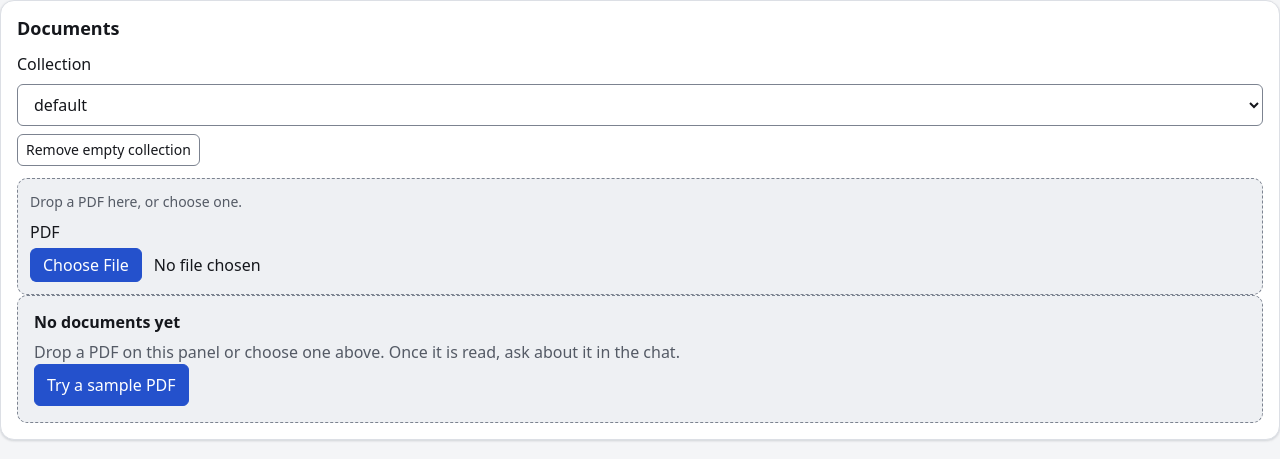
Test: DocumentsPanel › sample PDF › uploads the sample into the selected collection from the empty state
Click the button "Try a sample PDF" at {"x": 111, "y": 384}, box [34,364,189,406]
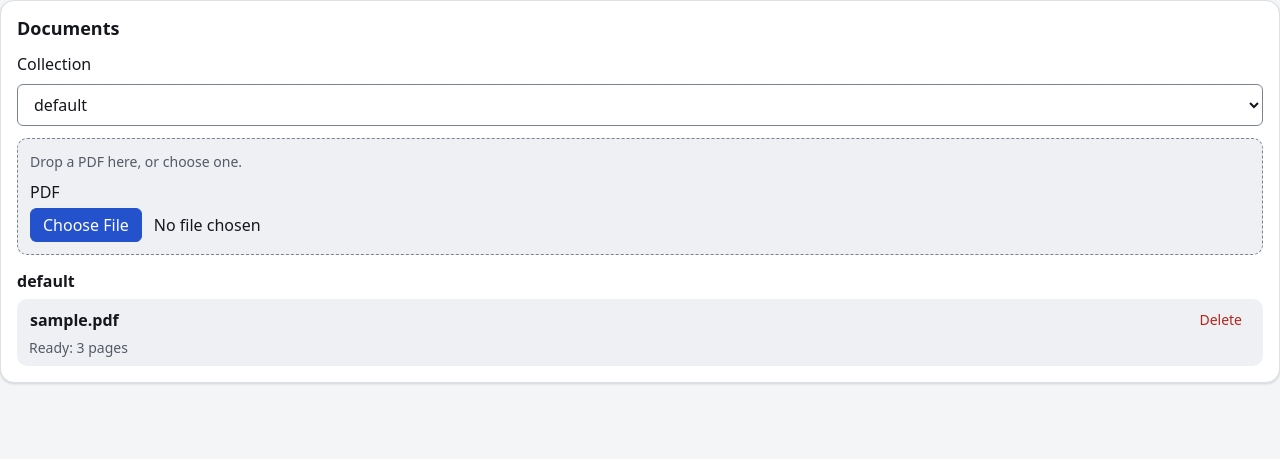
Expected: the text "Ready: 3 pages" is shown, [29,338,128,356]
Expected: the button "Try a sample PDF" is gone
